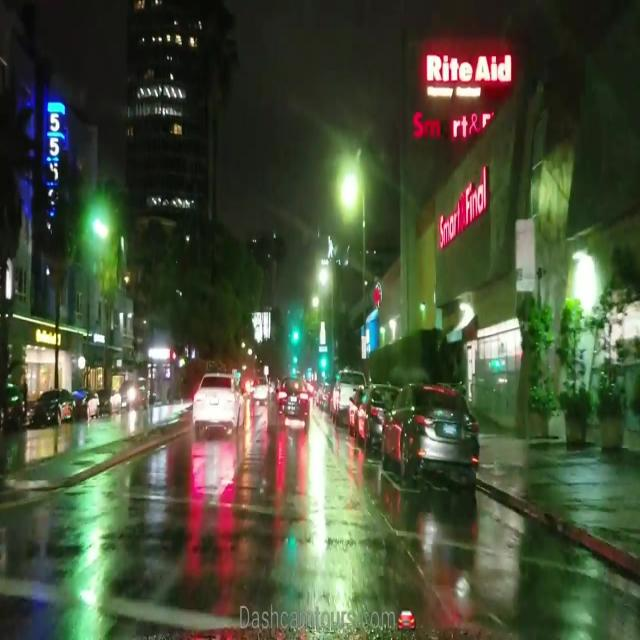Car: (379, 384, 476, 482), (191, 368, 246, 439), (358, 381, 385, 446), (275, 375, 310, 418), (28, 391, 71, 423), (329, 372, 354, 423)
